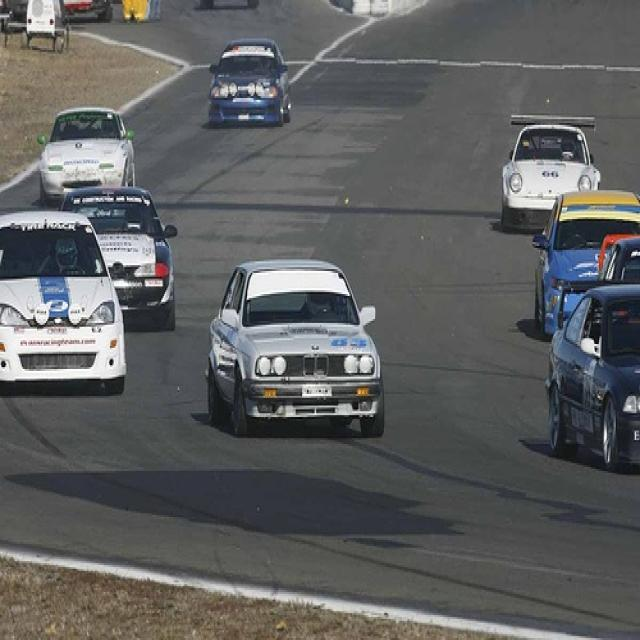car: (203, 256, 388, 442), (0, 209, 127, 398), (545, 282, 639, 474), (58, 182, 179, 328), (536, 188, 639, 340), (499, 108, 604, 236), (36, 106, 139, 206), (206, 34, 297, 130)
